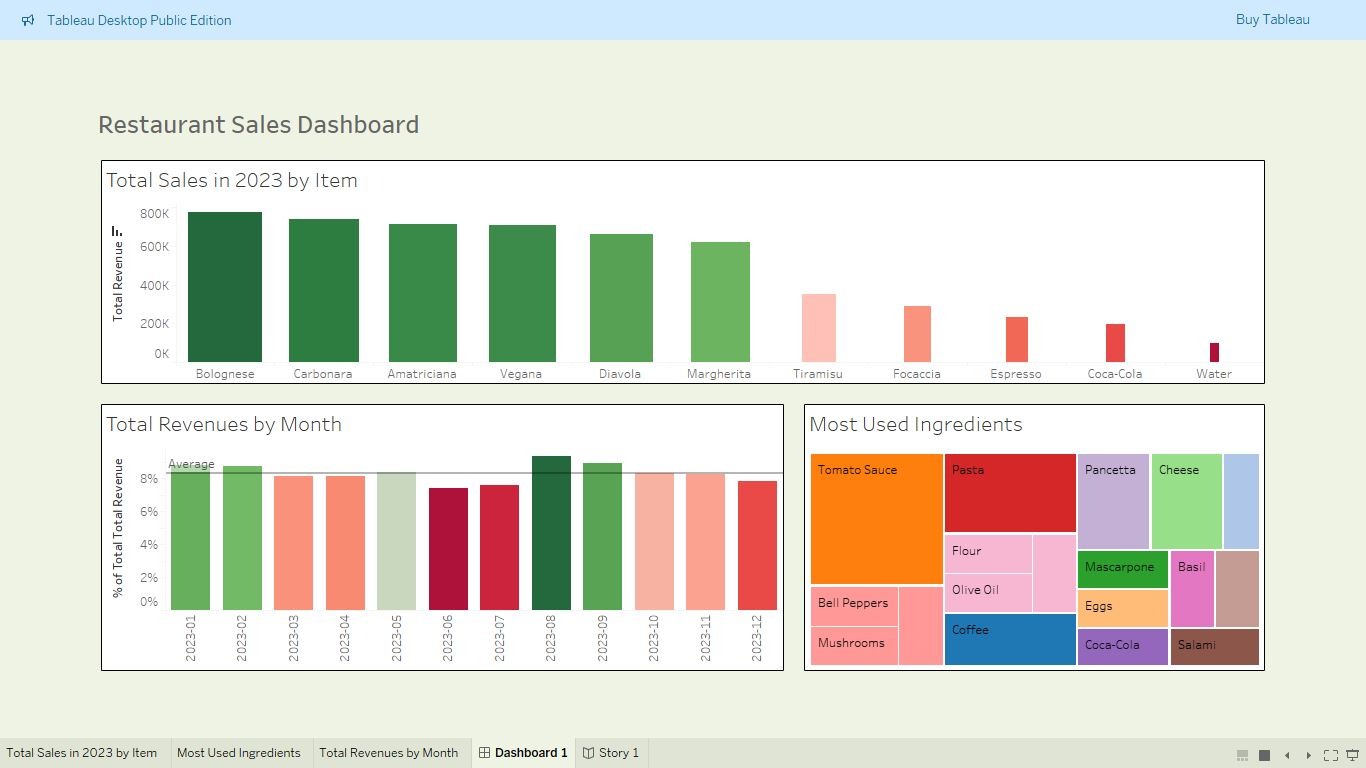

Layout of this report page (visuals, bound fields, positions):
{"tool":"tableau","page":{"name":"Dashboard 1","canvas":[1200,600],"ordinal":0},"visuals":[{"type":"text","box":[8,8,1184,53]},{"type":"worksheet","title":"Total Sales in 2023 by Item","mark":"Bar","rows":["Total_Revenue"],"cols":["Item_Name"],"box":[8,61,1184,244]},{"type":"worksheet","title":"Total Revenues by Month","mark":"Automatic","cols":["Month"],"box":[8,305,703,287]},{"type":"worksheet","title":"Most Used Ingredients","mark":"Automatic","box":[711,305,481,287]}]}

Visuals, with their boxes on the page's 1200x600 design canvas (x1, y1, x2, y2). These are canvas units, not pixel positions in the 1366x768 screenshot, which may show the page scaled, cropped or inside an application window:
text: [8,8,1192,61]
"Total Sales in 2023 by Item" worksheet (Bar marks): [8,61,1192,305]
"Total Revenues by Month" worksheet: [8,305,711,592]
"Most Used Ingredients" worksheet: [711,305,1192,592]
